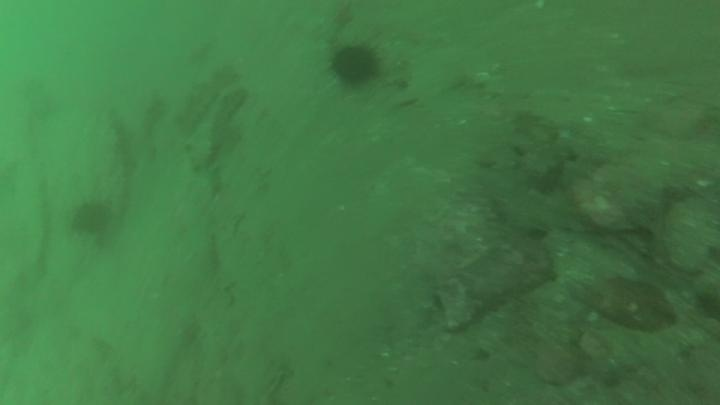echinus: (328, 41, 382, 89), (68, 197, 116, 240)
holothurian: (182, 82, 252, 167), (172, 62, 238, 130)
